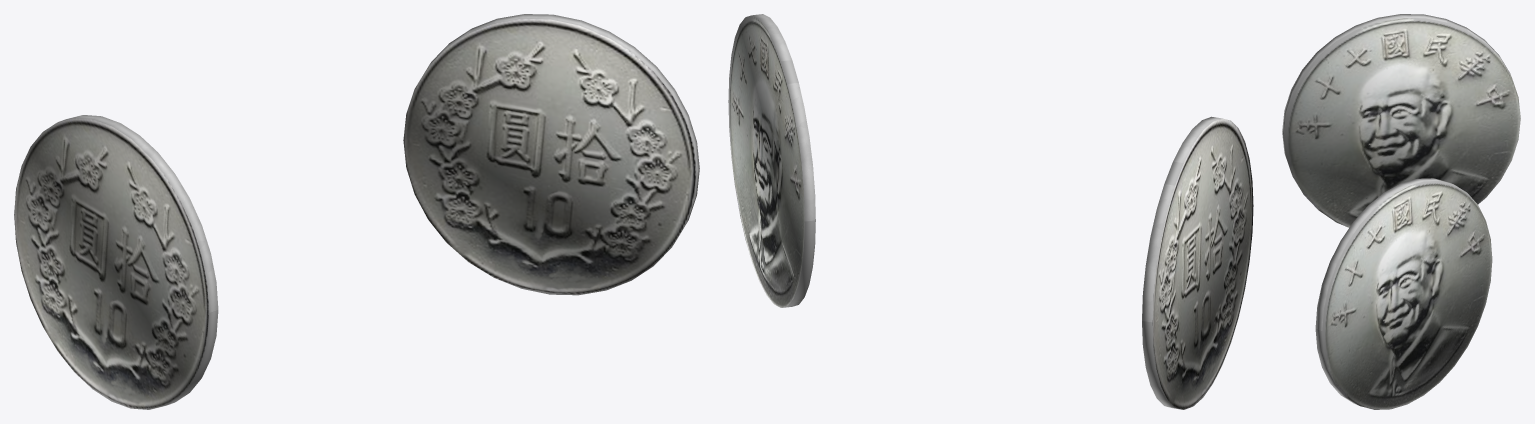
Rendered from 10dollar_anim.fbx.
The picture shows the model from 3 angles, left to right: view 1: azimuth 30°, elevation 25°; view 2: azimuth 150°, elevation 25°; view 3: azimuth 270°, elevation 25°; orthographic projection. The views are drawn at different scales.
Visible parts, largest first — view 1: 10dollor.004, 10dollor.003; view 2: 10dollor.003, 10dollor.004; view 3: 10dollor.003, 10dollor.004.
Boxes of the visible parts, x1,y1,x2,y2 form: 10dollor.004: (403, 14, 699, 295); 10dollor.003: (14, 115, 218, 409); 10dollor.003: (1142, 116, 1253, 409); 10dollor.004: (728, 14, 815, 307); 10dollor.003: (1282, 14, 1520, 227); 10dollor.004: (1315, 178, 1492, 409).
Size of the model in its own units: 12.81 by 6 by 5.95.
